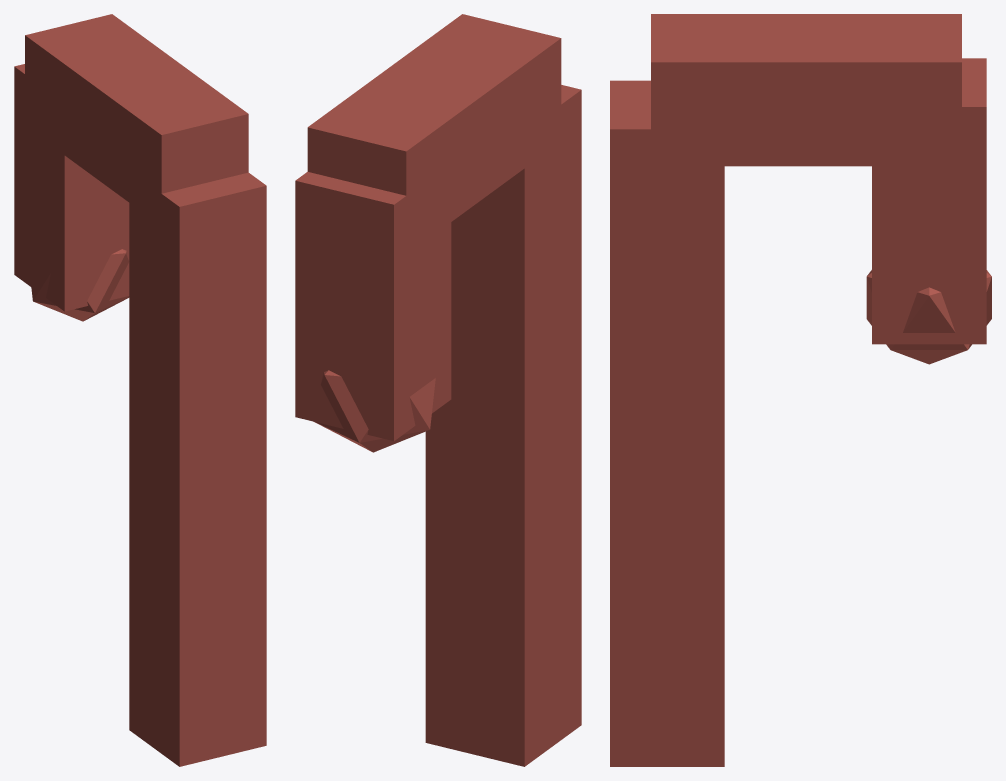
The model's file is candy_cane.fbx.
The picture shows the model from 3 angles, left to right: view 1: azimuth 30°, elevation 25°; view 2: azimuth 150°, elevation 25°; view 3: azimuth 270°, elevation 25°; orthographic projection. The views are drawn at different scales.
Visible parts, largest first — view 1: candy_cane; view 2: candy_cane; view 3: candy_cane.
Part boxes in pixels (x1,y1,x2,y2): candy_cane: (14,14,266,766); candy_cane: (295,14,581,766); candy_cane: (610,14,991,766).
Bounding box in the file's own units: 20.34 × 120 × 58.93.
